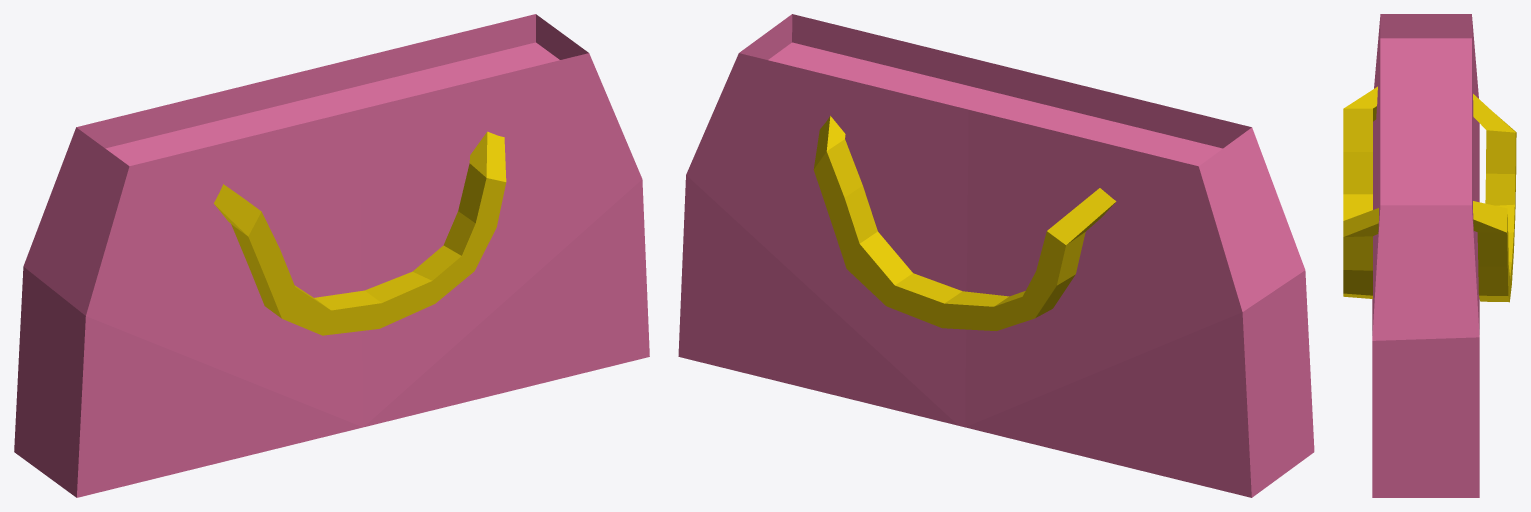
The model's file is ShoppingBag_4.fbx.
3 views of the same model, side by side, from view 1: azimuth 30°, elevation 25°; view 2: azimuth 150°, elevation 25°; view 3: azimuth 270°, elevation 25° (orthographic). The views are drawn at different scales.
Parts seen in each view (by area): view 1: Cube, Cube.002; view 2: Cube, Cube.001; view 3: Cube, Cube.001, Cube.002.
Boxes of the visible parts, x1,y1,x2,y2 form: Cube: (14, 14, 649, 497); Cube.002: (214, 131, 506, 335); Cube: (678, 14, 1314, 497); Cube.001: (813, 116, 1116, 330); Cube: (1372, 14, 1479, 497); Cube.001: (1473, 94, 1516, 302); Cube.002: (1343, 86, 1378, 298).
Bounding box in the file's own units: 436 × 229 × 133.
